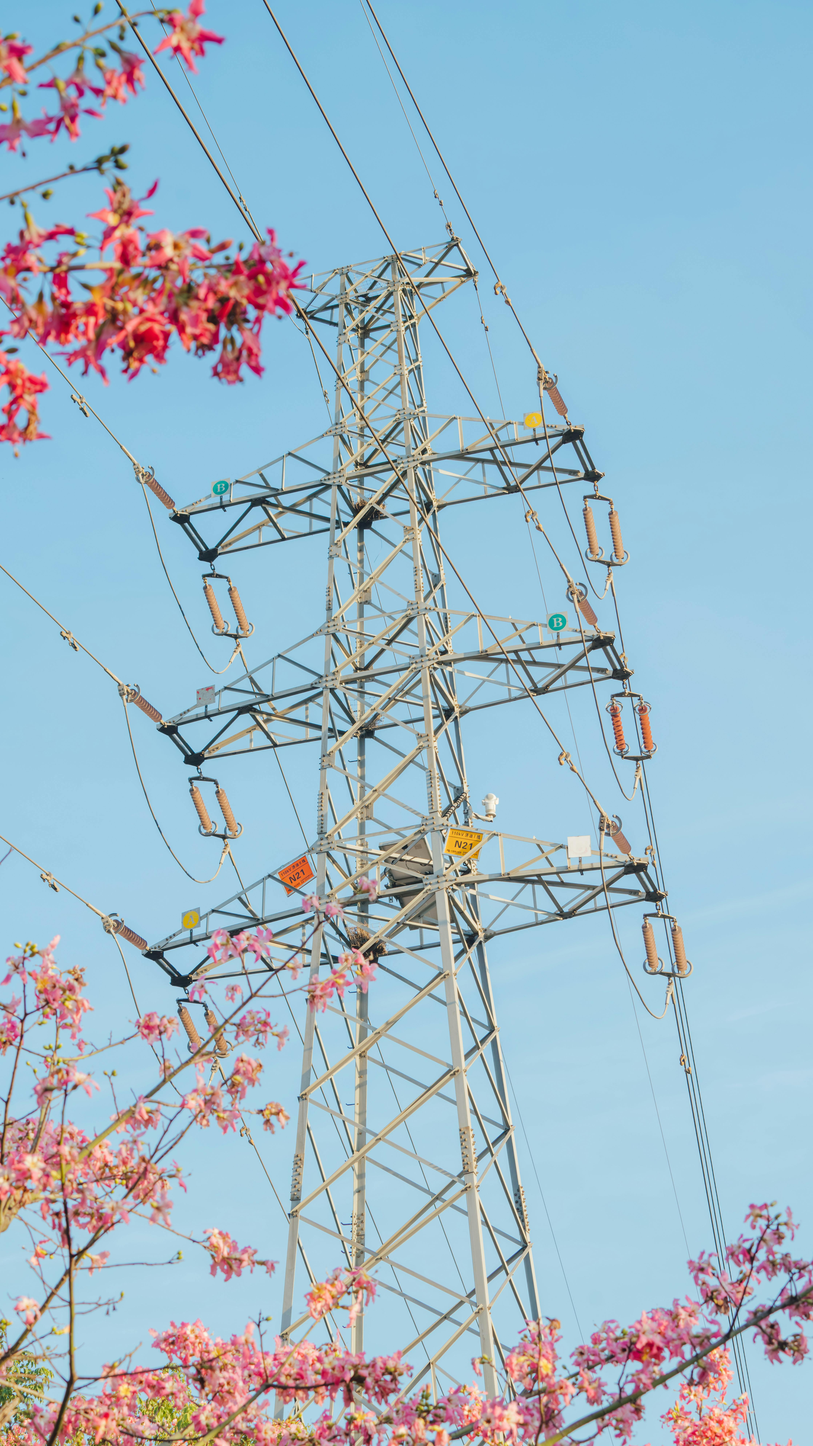insulator: (573, 487, 637, 581), (191, 568, 260, 645), (627, 913, 700, 981), (609, 678, 665, 763), (184, 768, 242, 850), (176, 996, 232, 1062)
